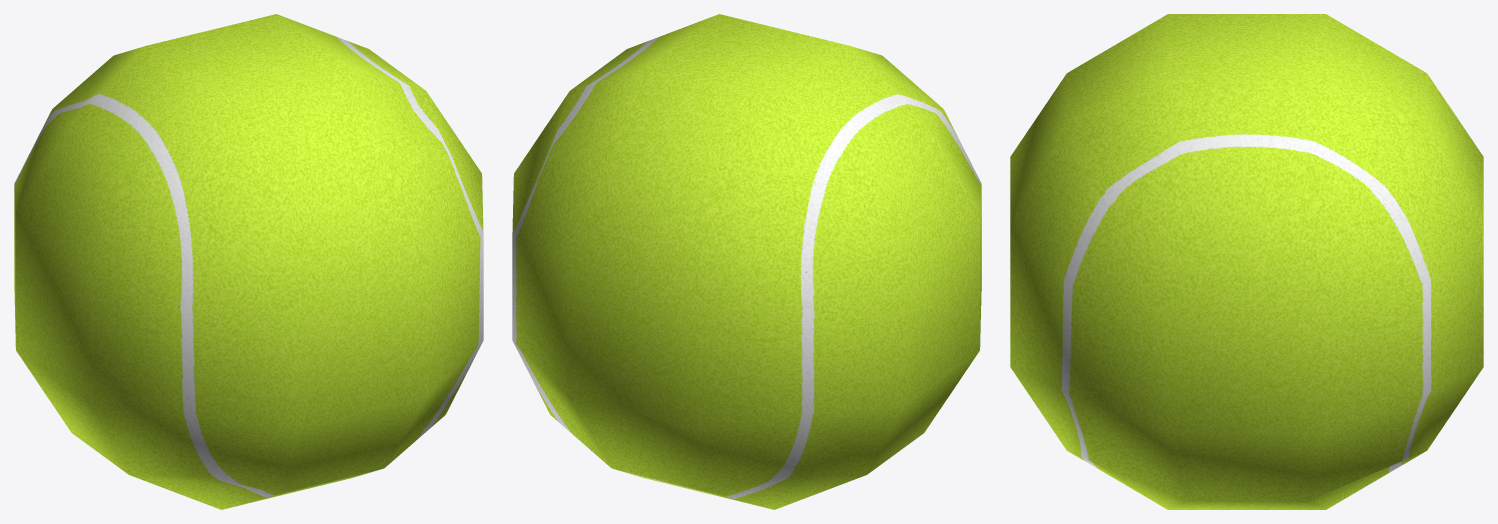
Rendered from tennis_ball.FBX.
The picture shows the model from 3 angles, left to right: view 1: azimuth 30°, elevation 25°; view 2: azimuth 150°, elevation 25°; view 3: azimuth 270°, elevation 25°; orthographic projection. The views are drawn at different scales.
Visible parts, largest first — view 1: ball; view 2: ball; view 3: ball.
Part boxes in pixels (left/top/right/bottom): ball: left=14, top=14, right=483, bottom=509; ball: left=512, top=14, right=981, bottom=509; ball: left=1010, top=14, right=1483, bottom=509.
Bounding box in the file's own units: 6.87 × 6.87 × 6.87.
